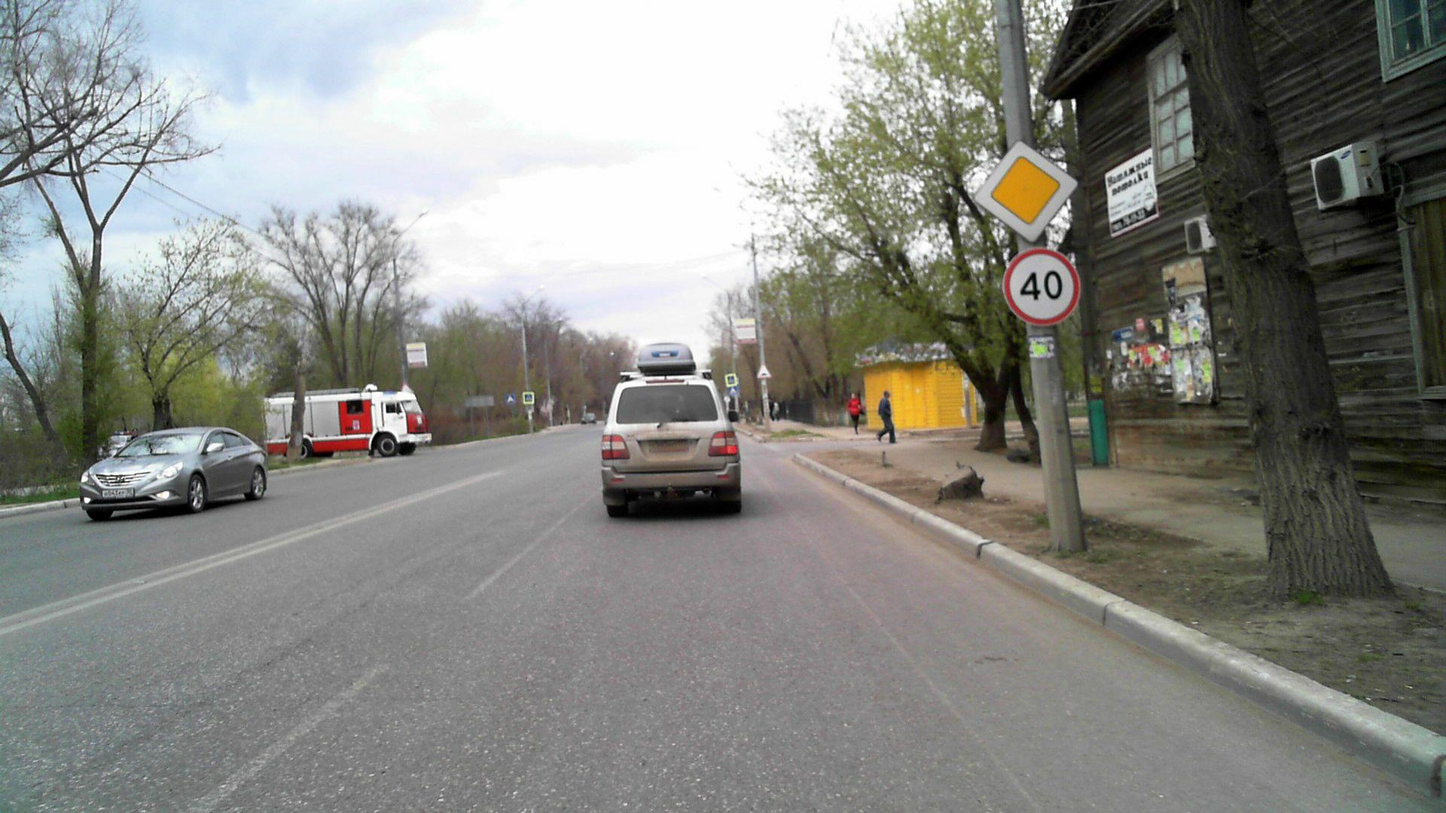road_sign: (971, 139, 1079, 245), (1003, 248, 1081, 325)
